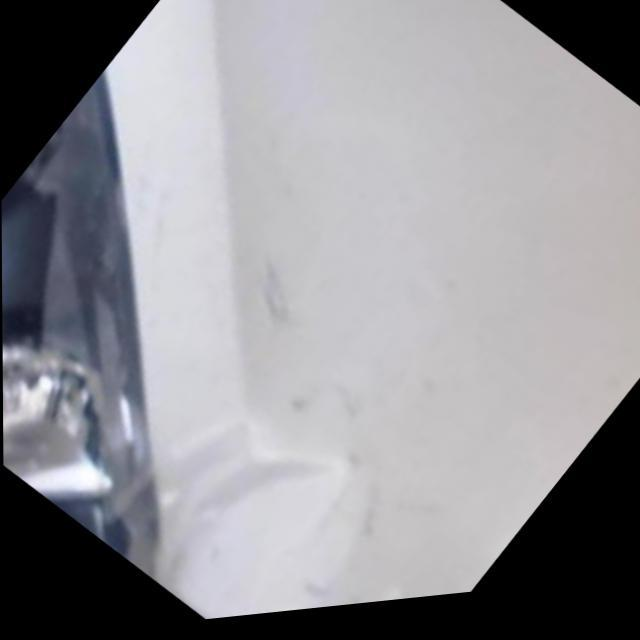dent: (151, 434, 348, 623)
